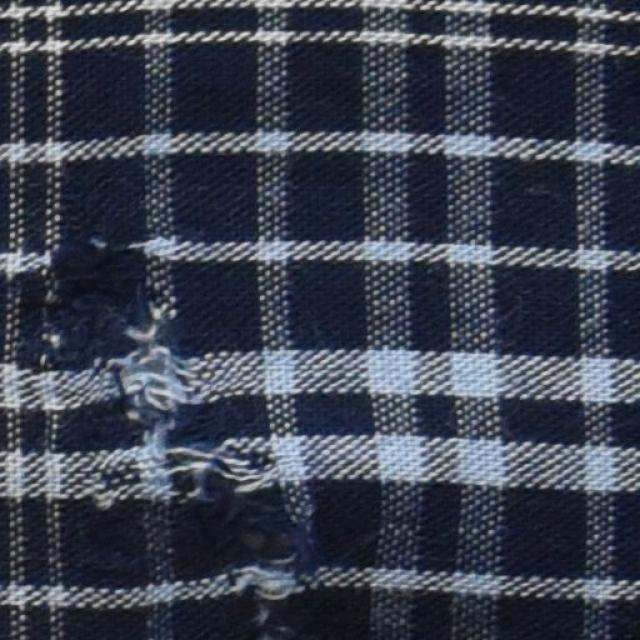Snag: (46, 232, 314, 634)
